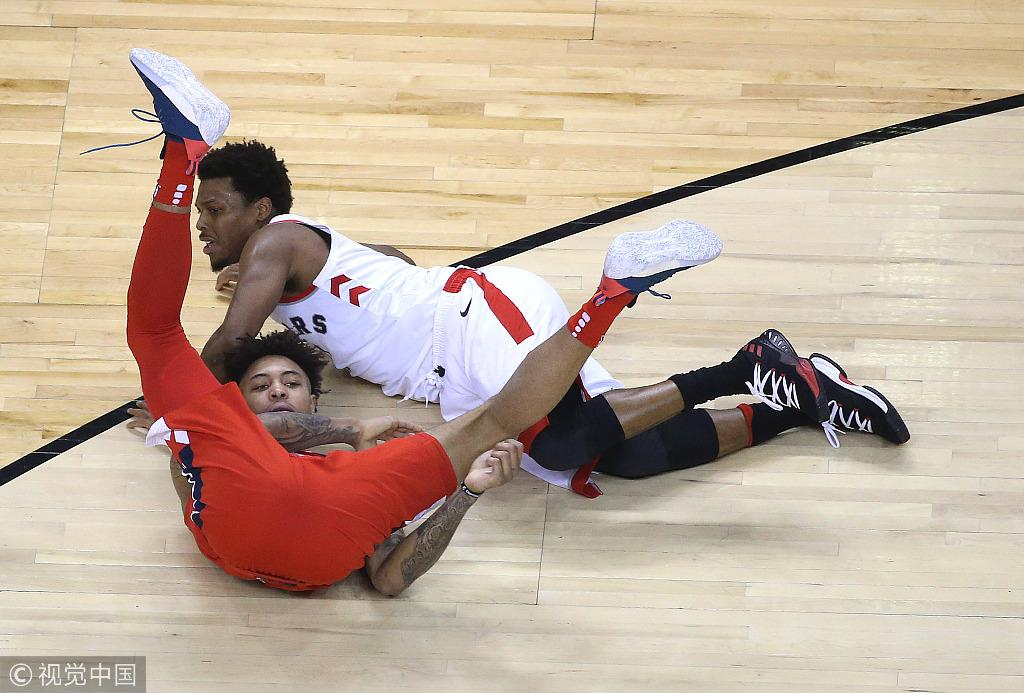down: (104, 43, 733, 598), (117, 138, 915, 486)
